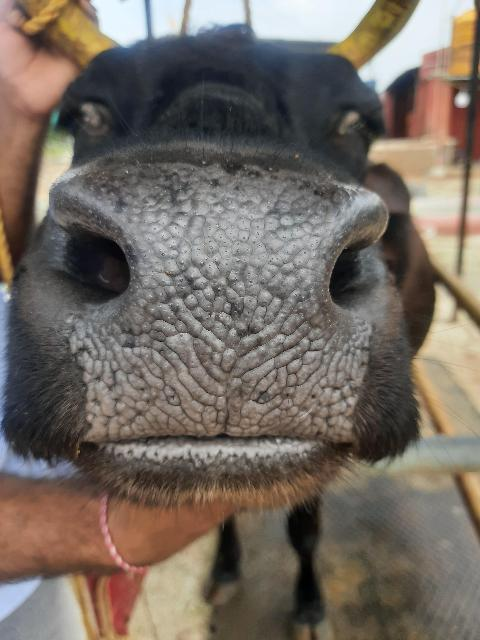Muzzle: (137, 198, 323, 438)
